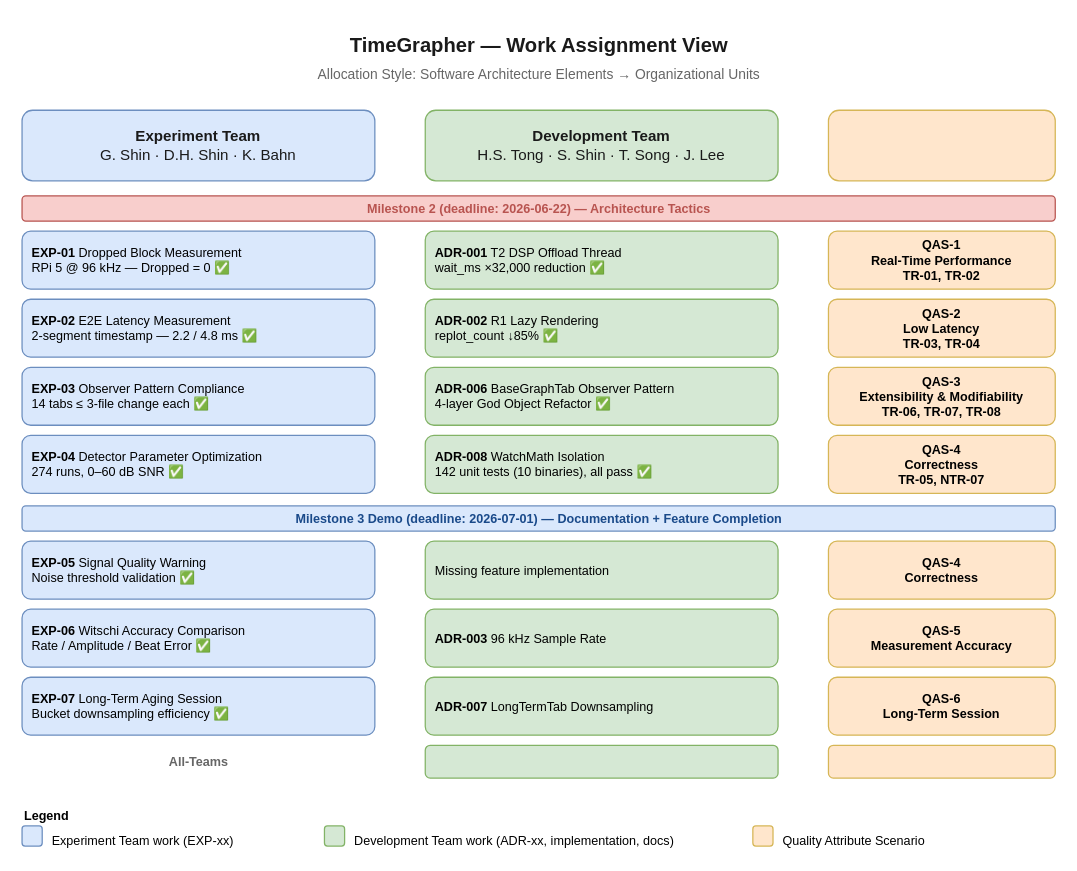
Some shapes in this 1077 by 871 pixel diagram are drawn without their labels. Here are the shapes that lost their labels. From the top down, the centre of each, then its label:
At point 941,145: "QAS Concern".
At point 601,761: "Architecture views · ADRs · ATAM evaluation".
At point 941,761: "All QAS".
